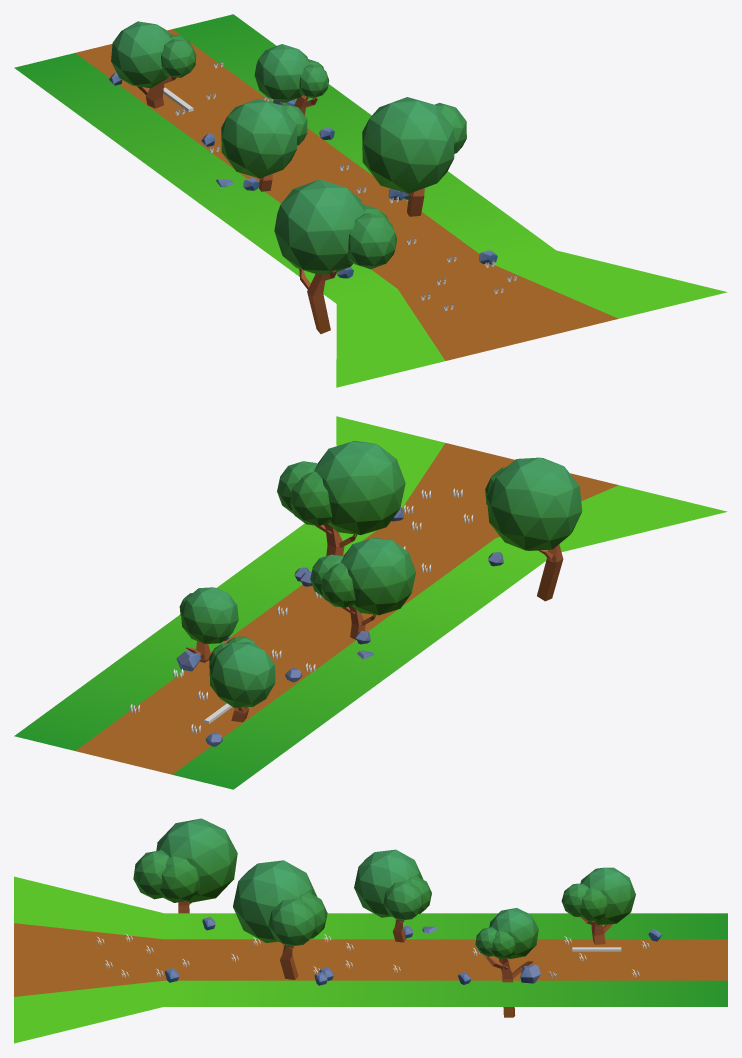
File: поле .fbx
3 views of the same model, one above another, from view 1: azimuth 30°, elevation 25°; view 2: azimuth 150°, elevation 25°; view 3: azimuth 270°, elevation 25° (orthographic). The views are drawn at different scales.
Parts seen in each view (by area): view 1: Plane, Icosphere.005, Icosphere.003, Icosphere.001, Icosphere.002, Icosphere.004, Cube.005; view 2: Plane, Icosphere.003, Icosphere.005, Icosphere.001, Icosphere.002, Icosphere.004, Cube.005; view 3: Plane, Icosphere.005, Icosphere.003, Icosphere.001, Icosphere.002, Icosphere.004, Cube.004, Cube.003.
Part boxes in pixels (x1,y1,x2,y2): Plane: [14, 14, 727, 387]; Icosphere.005: [274, 179, 396, 274]; Icosphere.003: [362, 97, 466, 193]; Icosphere.001: [221, 99, 307, 178]; Icosphere.002: [111, 21, 196, 88]; Icosphere.004: [254, 44, 329, 102]; Cube.005: [299, 269, 336, 333]; Plane: [14, 416, 727, 789]; Icosphere.003: [277, 441, 405, 534]; Icosphere.005: [485, 457, 582, 550]; Icosphere.001: [310, 537, 415, 615]; Icosphere.002: [209, 636, 275, 707]; Icosphere.004: [179, 587, 238, 643]; Cube.005: [537, 544, 563, 601]; Plane: [14, 876, 727, 1043]; Icosphere.005: [133, 818, 237, 902]; Icosphere.003: [233, 860, 327, 946]; Icosphere.001: [354, 849, 431, 920]; Icosphere.002: [561, 867, 635, 924]; Icosphere.004: [475, 908, 538, 959]; Cube.004: [484, 955, 533, 1017]; Cube.003: [280, 944, 298, 979].
Size of the model in its own units: 16056 by 6342 by 29010.
